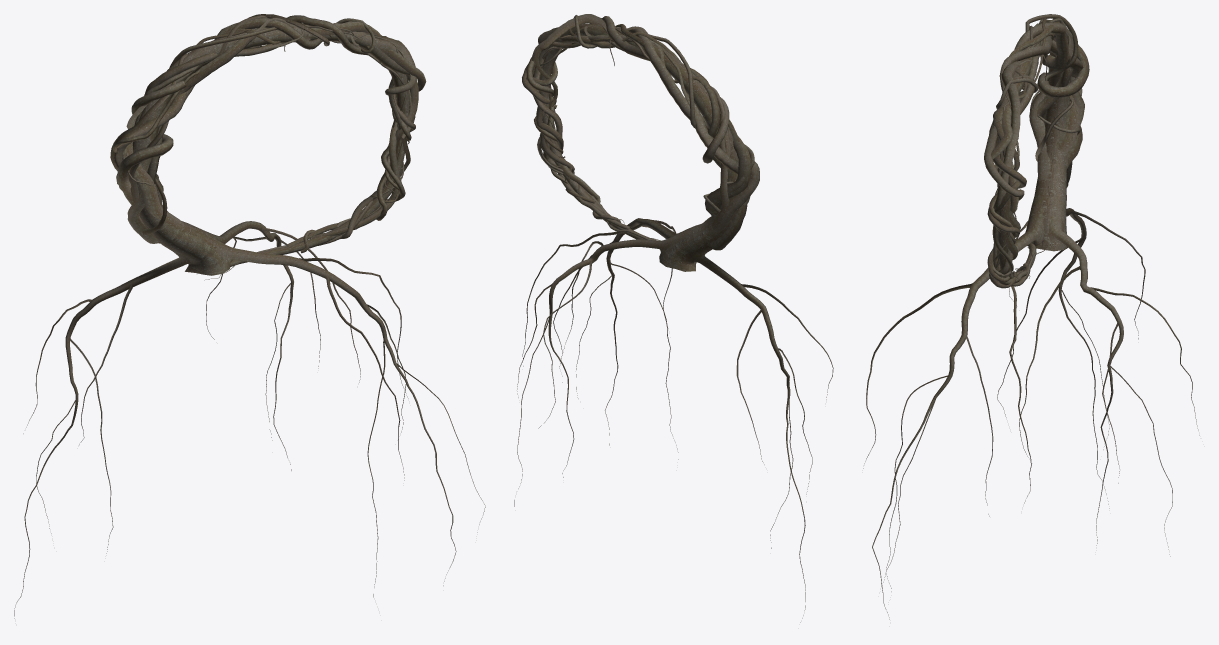
The model's file is arbol_portal.obj.
3 renders of one model, left to right at view 1: azimuth 30°, elevation 25°; view 2: azimuth 150°, elevation 25°; view 3: azimuth 270°, elevation 25°, orthographic. The views are drawn at different scales.
Parts seen in each view (by area): view 1: export_BARK_Mat_BARK_Mat_0; view 2: export_BARK_Mat_BARK_Mat_0; view 3: export_BARK_Mat_BARK_Mat_0.
Boxes of the visible parts, left/top/right/bottom form: export_BARK_Mat_BARK_Mat_0: left=14, top=14, right=485, bottom=618; export_BARK_Mat_BARK_Mat_0: left=514, top=14, right=833, bottom=622; export_BARK_Mat_BARK_Mat_0: left=863, top=14, right=1199, bottom=619.
Size of the model in its own units: 1.4 by 2.18 by 1.14.
Materials: 1 (1 with a texture image).
